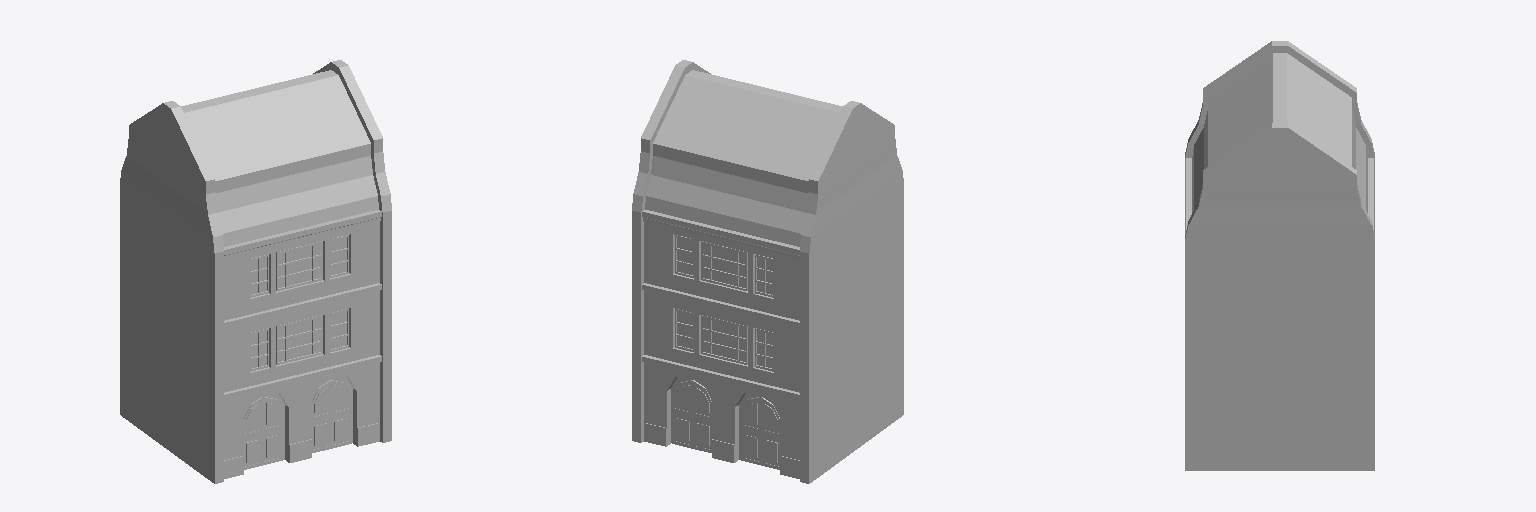
The picture shows the model from 3 angles: view 1: azimuth 30°, elevation 25°; view 2: azimuth 150°, elevation 25°; view 3: azimuth 270°, elevation 25°; orthographic projection.
Parts seen in each view (by area): view 1: Building2_Small_Cube.056; view 2: Building2_Small_Cube.056; view 3: Building2_Small_Cube.056.
Boxes of the visible parts, box(x1,y1,x2,y2) form: Building2_Small_Cube.056: box(120, 60, 391, 483); Building2_Small_Cube.056: box(632, 60, 903, 483); Building2_Small_Cube.056: box(1185, 41, 1374, 470).
Bounding box in the file's own units: 645 × 1192 × 597.